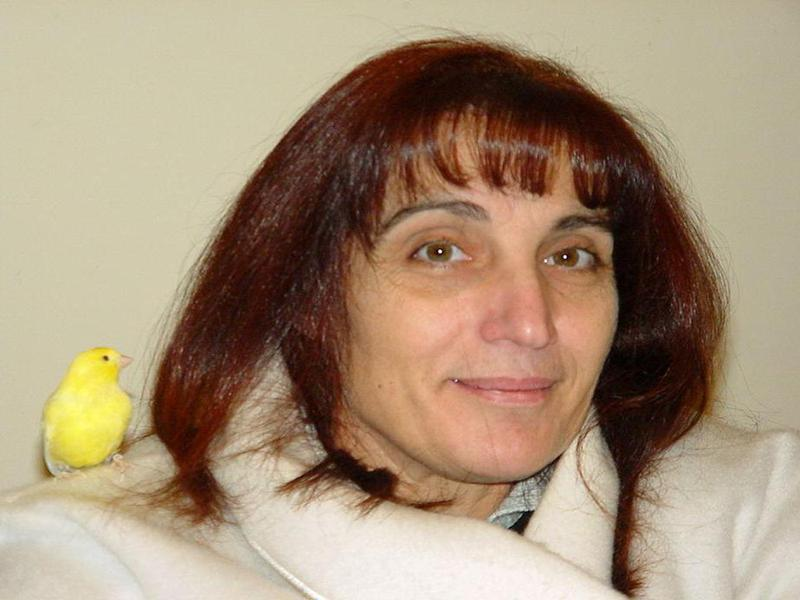person: (4, 33, 792, 600)
